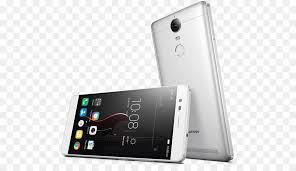lenovo: (64, 81, 193, 164)
